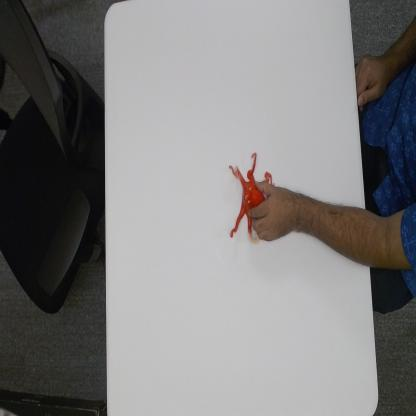Arm: (307, 195, 416, 273)
Hand: (247, 178, 307, 243)
Octopus: (228, 149, 275, 245)
